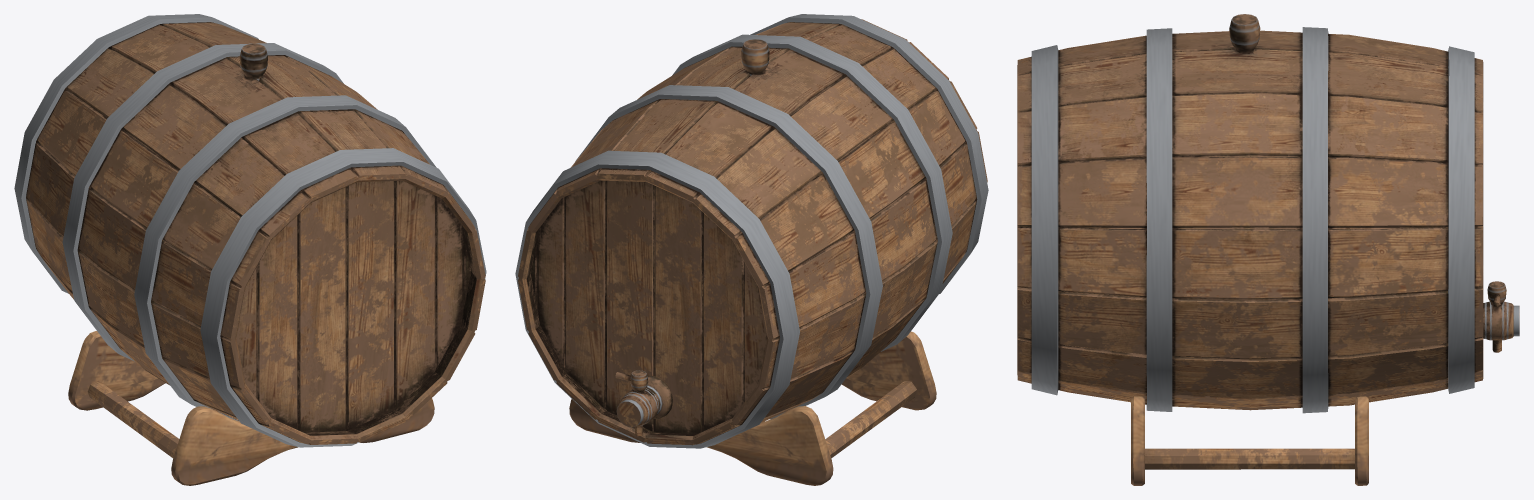
The picture shows the model from 3 angles, left to right: view 1: azimuth 30°, elevation 25°; view 2: azimuth 150°, elevation 25°; view 3: azimuth 270°, elevation 25°; orthographic projection. The views are drawn at different scales.
Parts seen in each view (by area): view 1: Object_2; view 2: Object_2; view 3: Object_2.
Part boxes in pixels (box(x1,y1,x2,y2)): Object_2: box(14, 14, 486, 485); Object_2: box(515, 14, 988, 485); Object_2: box(1017, 14, 1519, 485).
Size of the model in its own units: 0.7474 by 0.8647 by 0.9705.
Materials: 1 (1 with a texture image).
